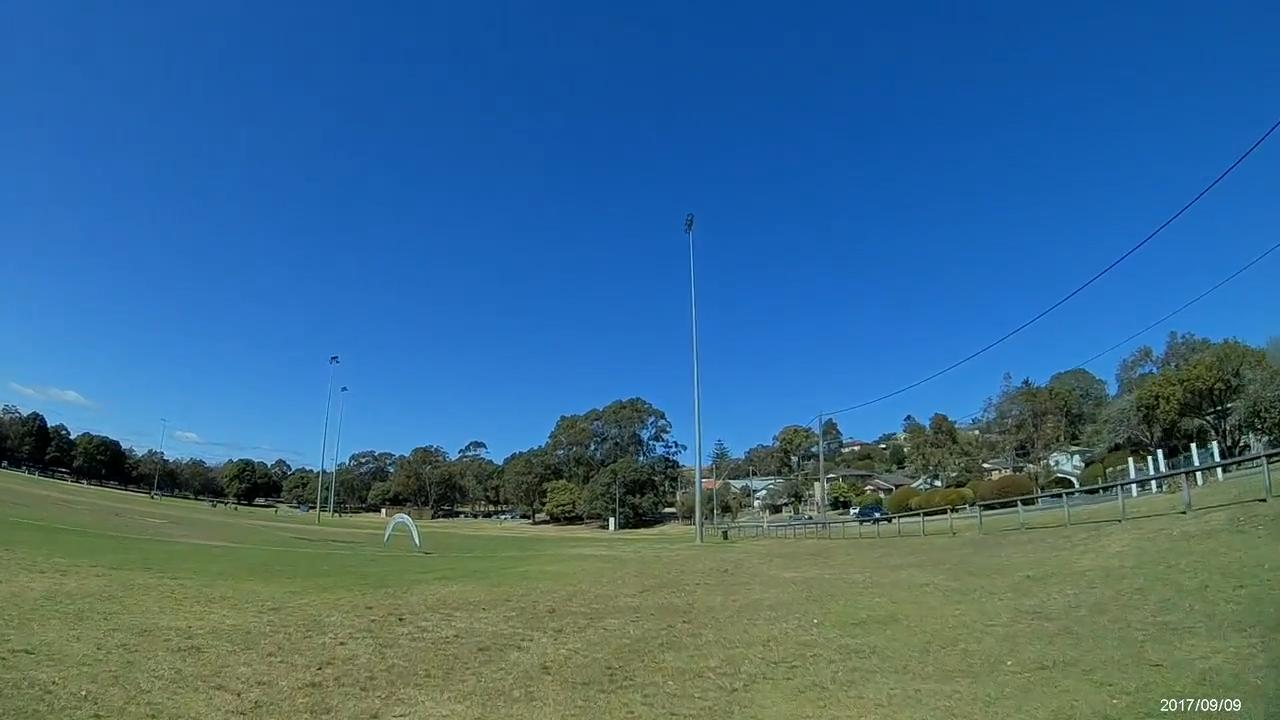gate: (385, 514, 418, 548)
